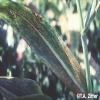Corn rust leaf: (0, 0, 87, 93)
